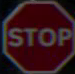Stop: (7, 3, 71, 67)
